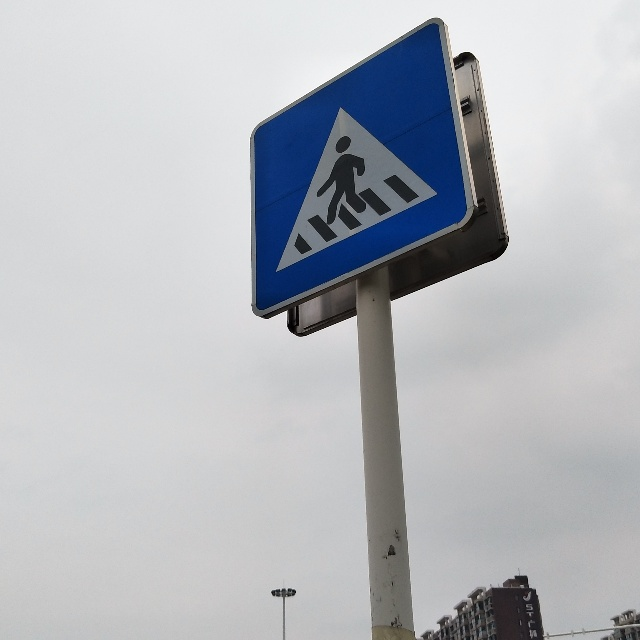crosswalk: (268, 108, 446, 272)
